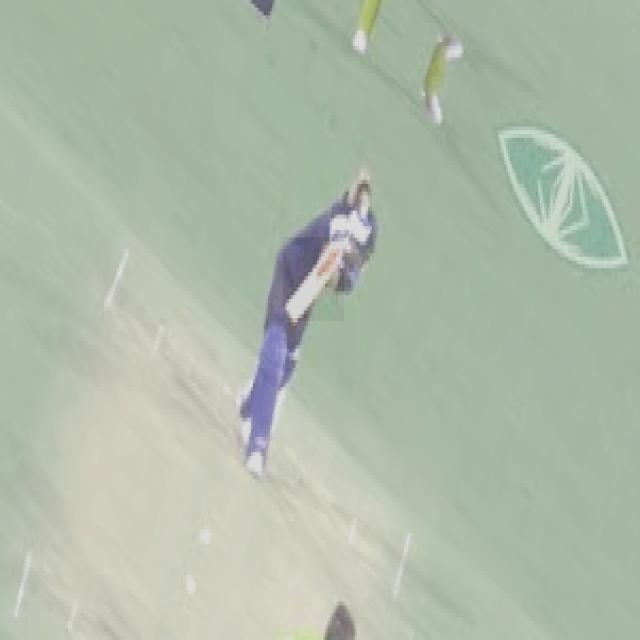bat: (282, 231, 344, 322)
toe: (284, 307, 305, 320)
